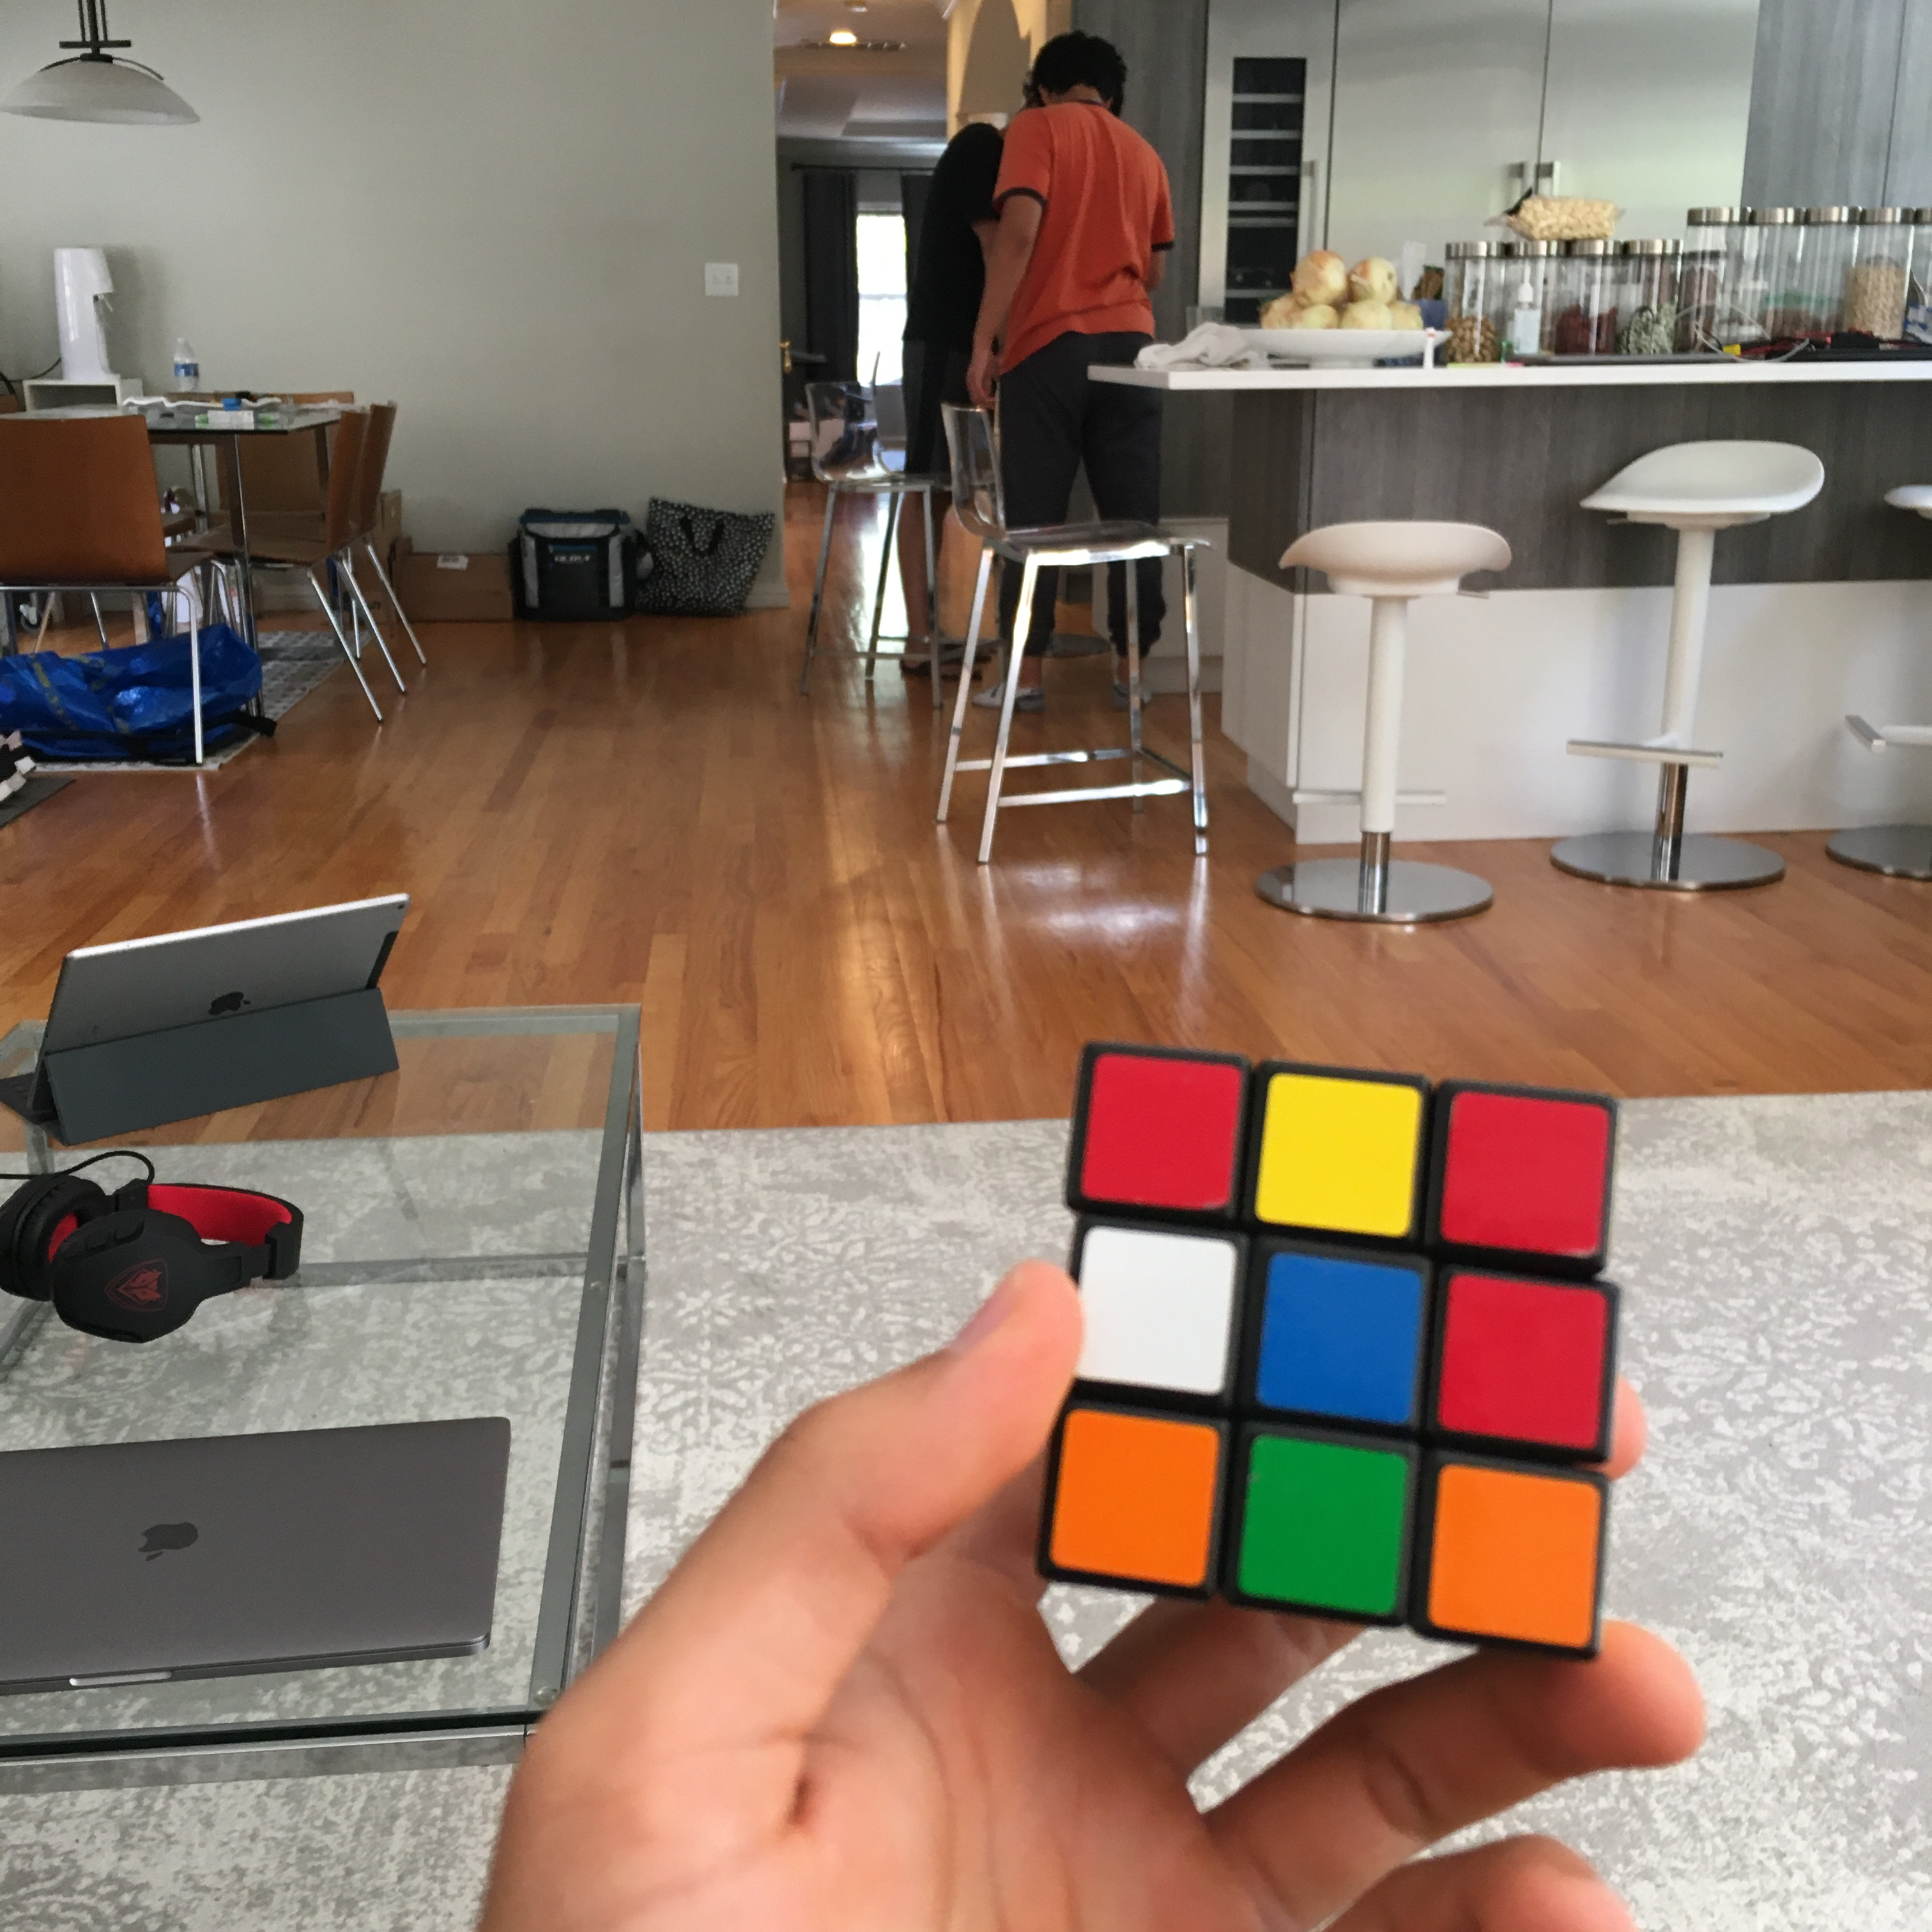face: (1043, 1046, 1614, 1669)
